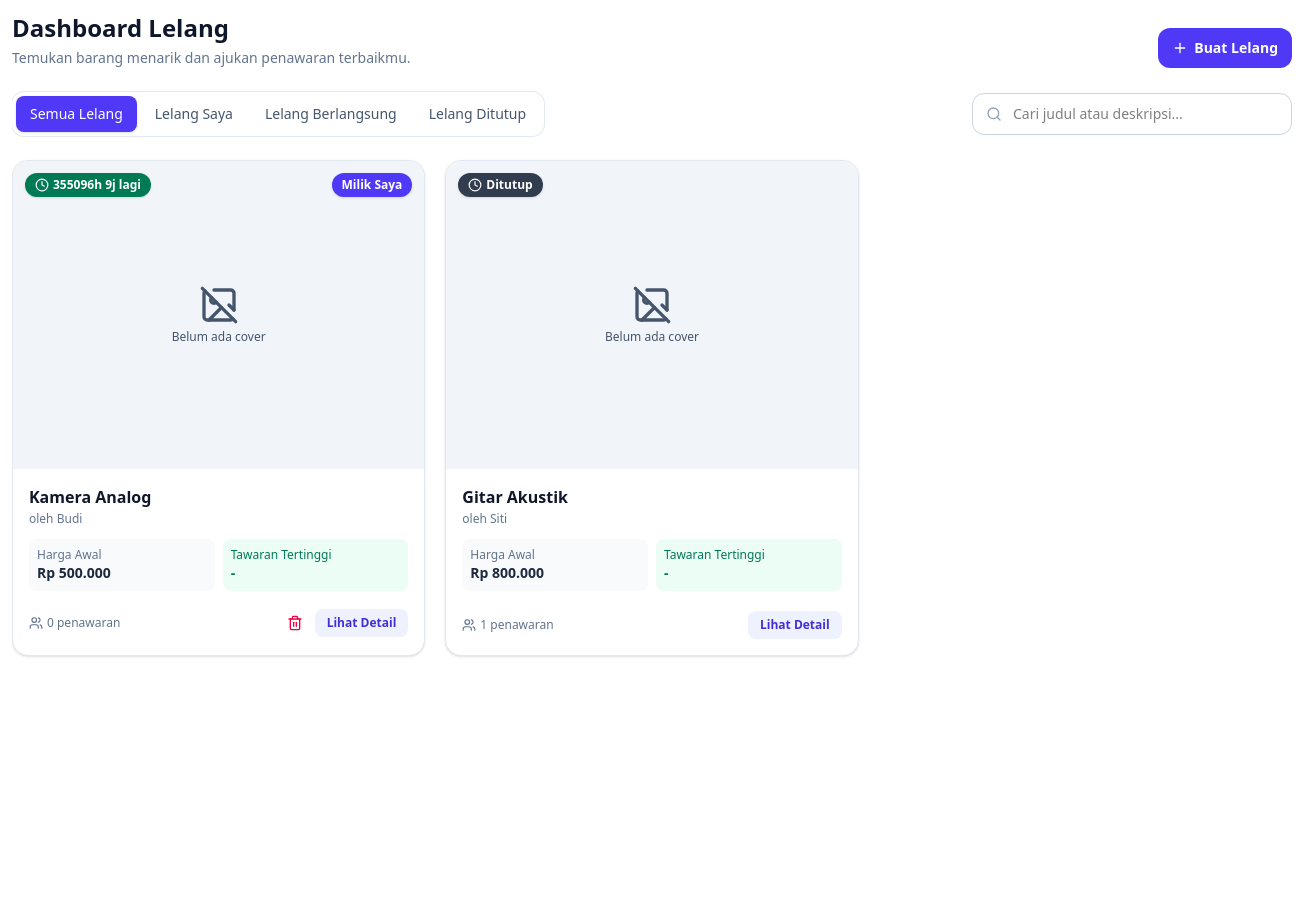
Test: HomePage › live search berdasarkan judul dan deskripsi
Type "jernih" into the search field with test id "search-input" at (1132, 114), box x1=972 y1=93 x2=1292 y2=135
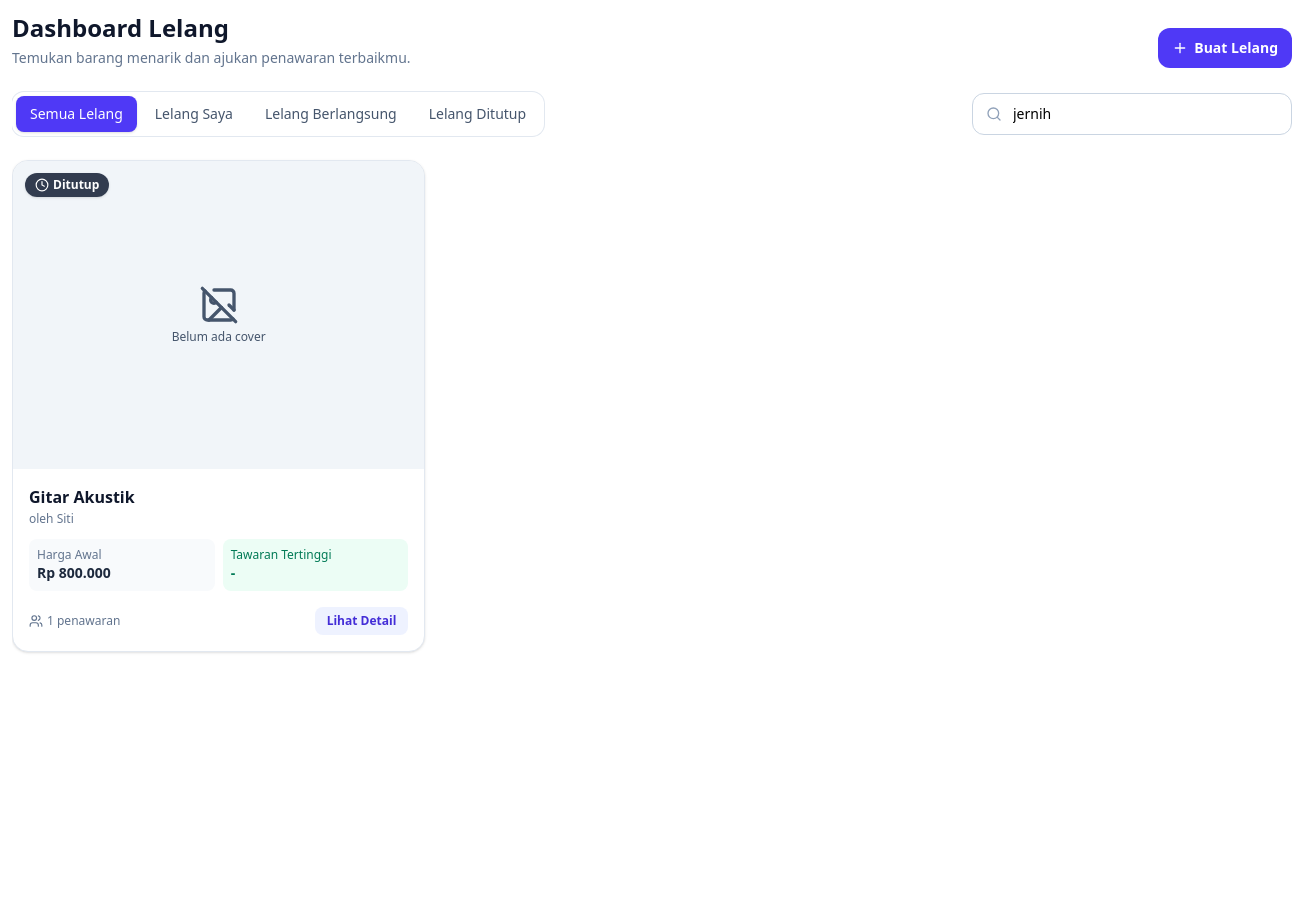
Replace the text in the search field with test id "search-input" with "KAMERA" at (1132, 114), box x1=972 y1=93 x2=1292 y2=135
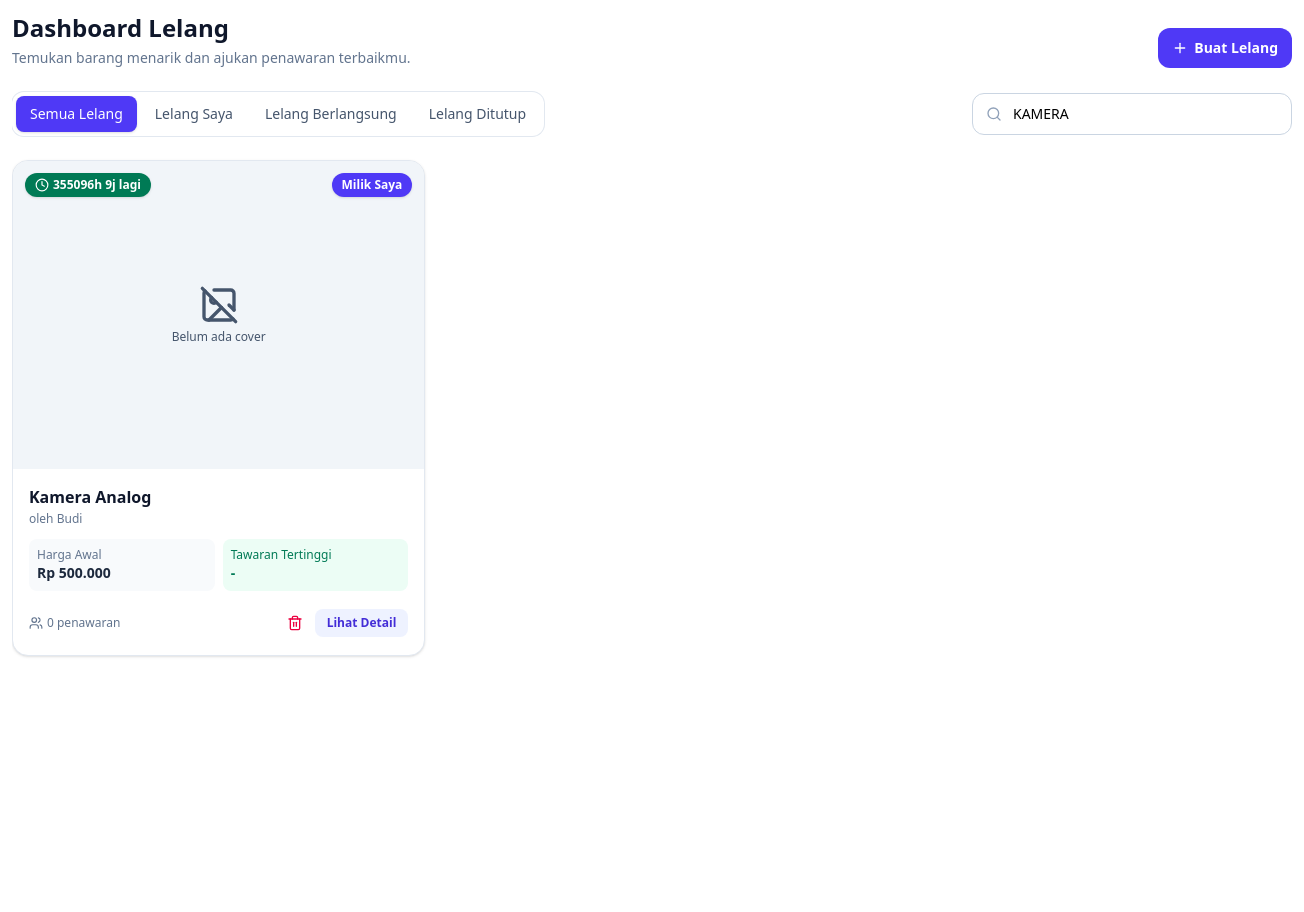
Replace the text in the search field with test id "search-input" with "tidak ada" at (1132, 114), box x1=972 y1=93 x2=1292 y2=135
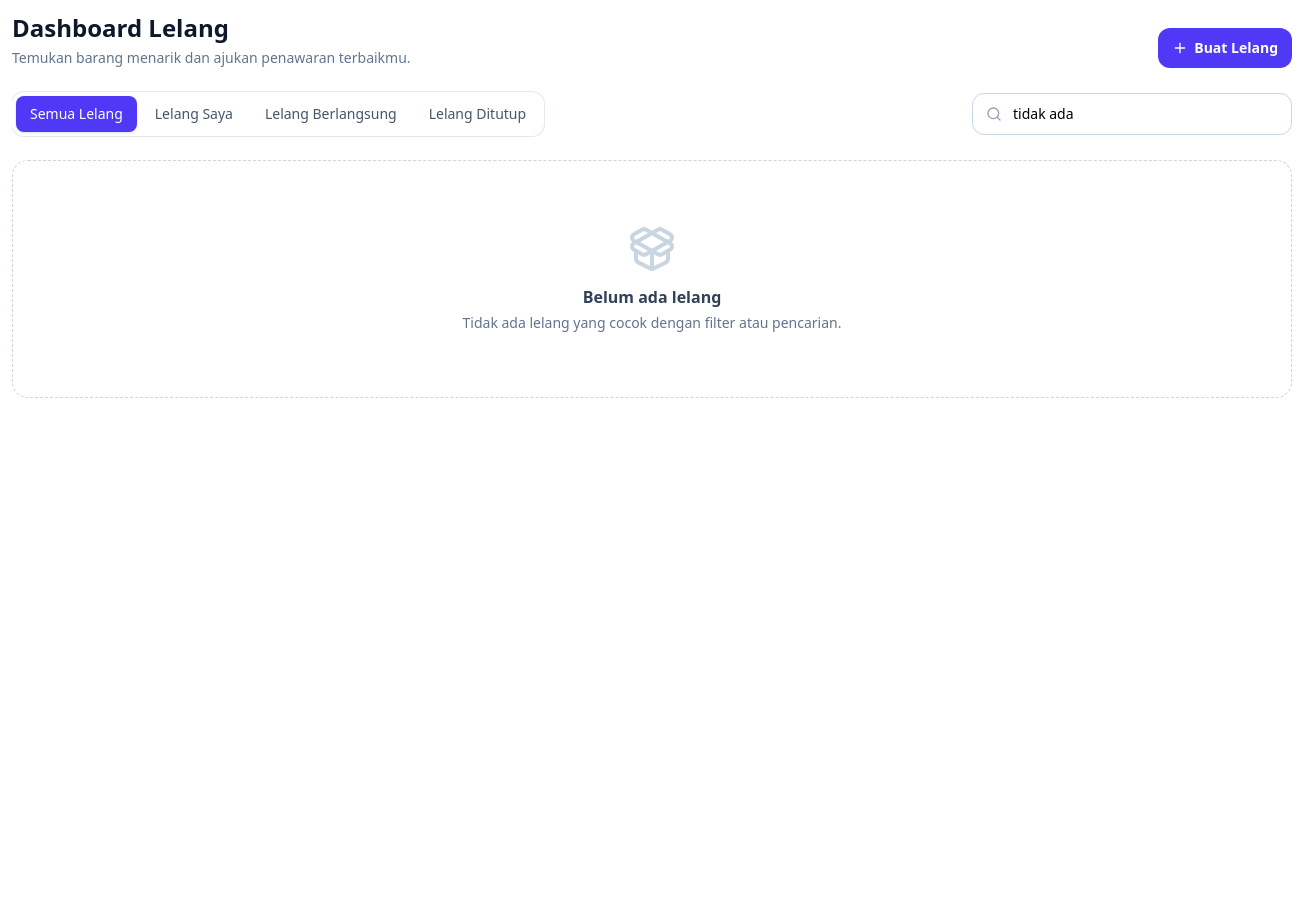
Expected: the element with test id "empty-state" is shown, x1=12 y1=160 x2=1292 y2=398
